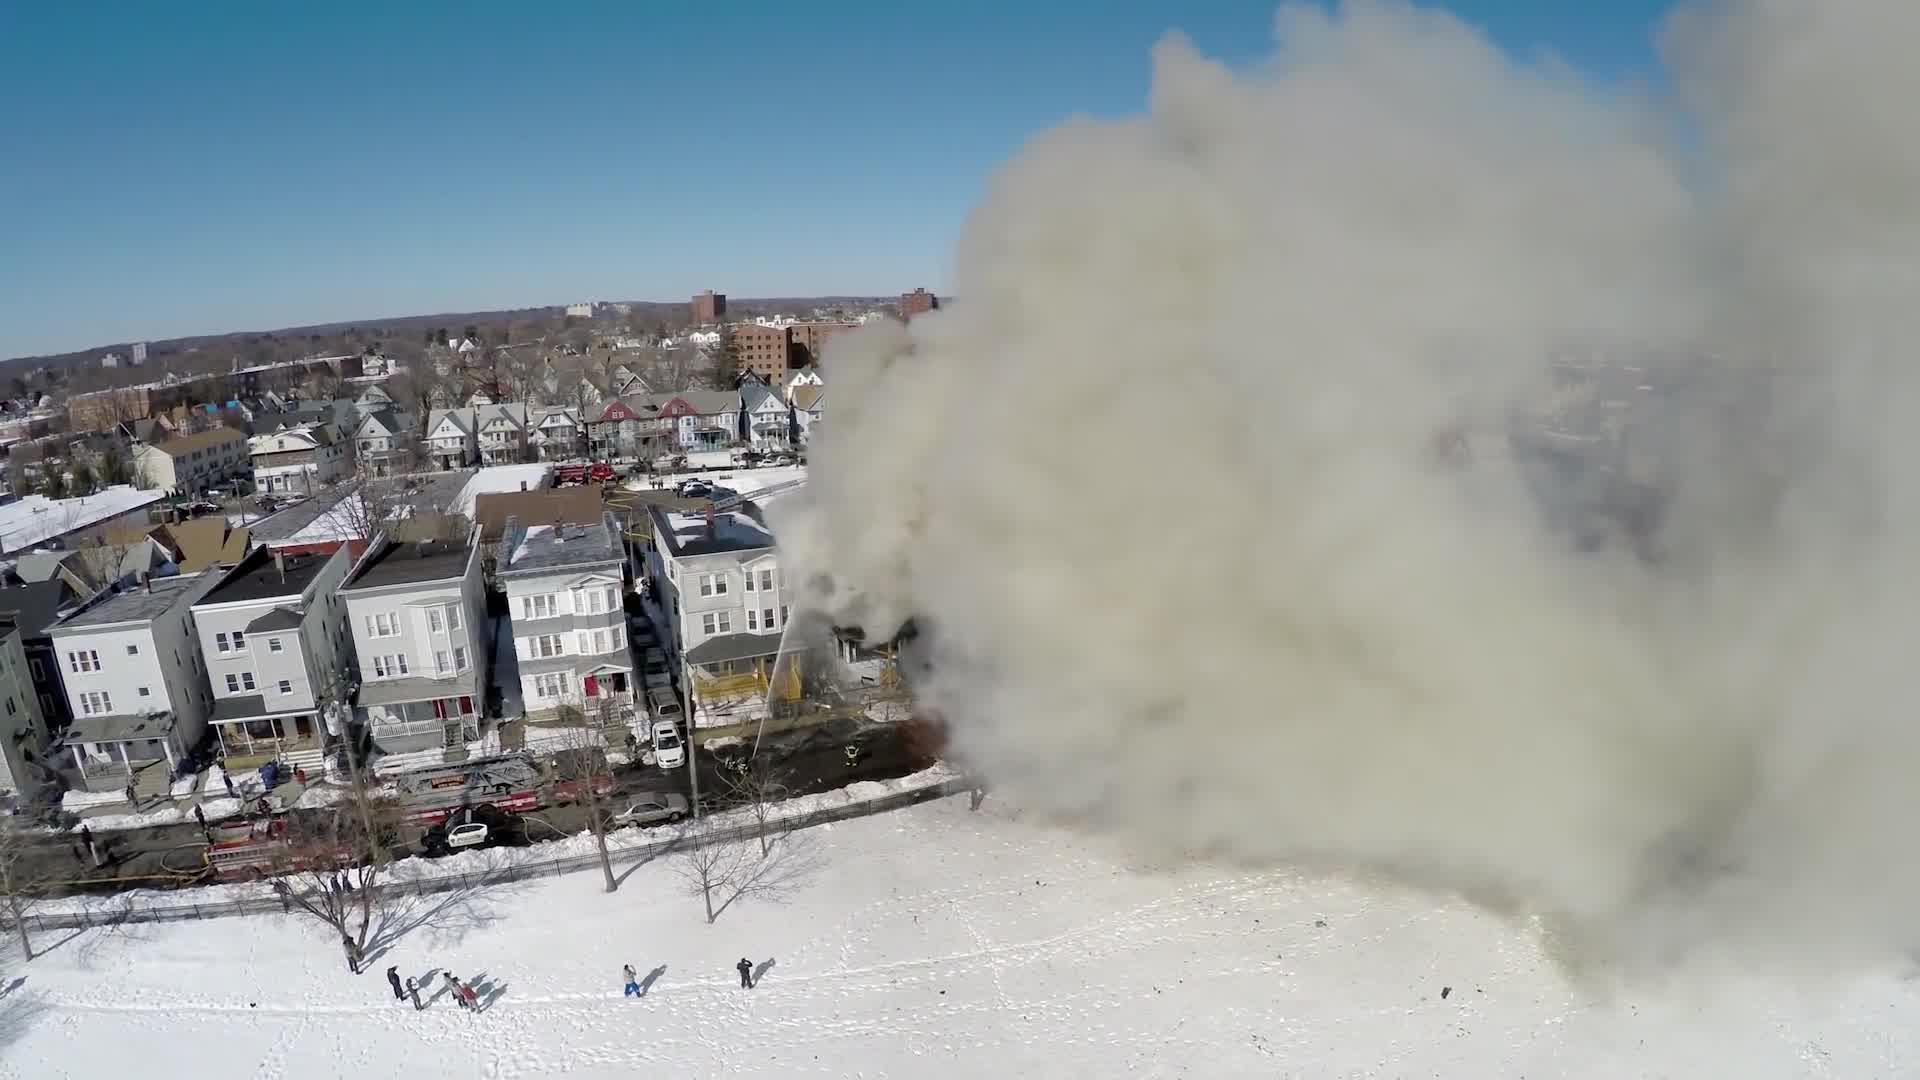smoke: (783, 0, 1920, 1009)
